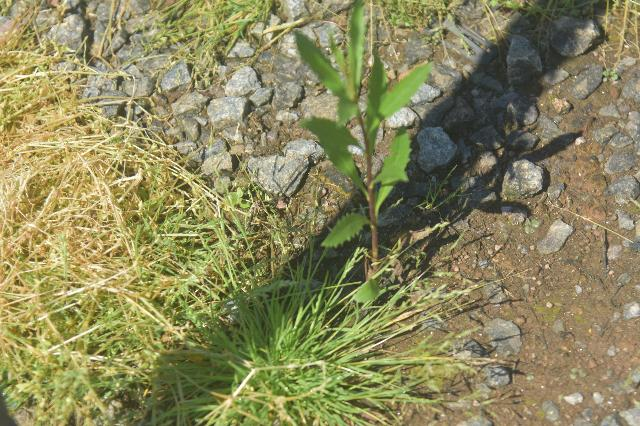MalezaMontesDelPlata: (159, 273, 474, 426), (295, 0, 437, 293), (141, 1, 277, 72)
